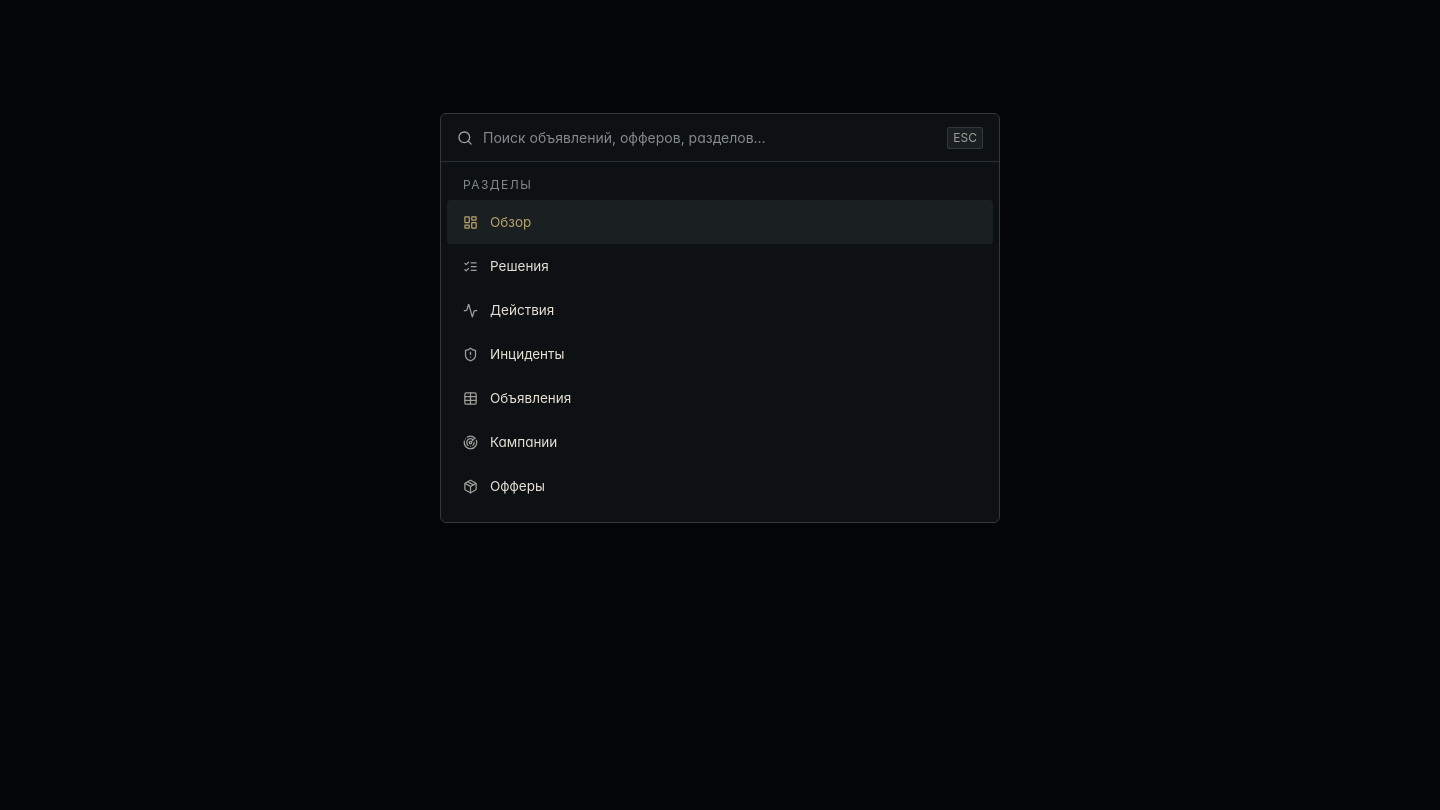
Test: CommandPalette › фильтрует разделы по запросу
Type "настр" into the field labelled "Поиск" at {"x": 710, "y": 138}, box [483,127,937,148]
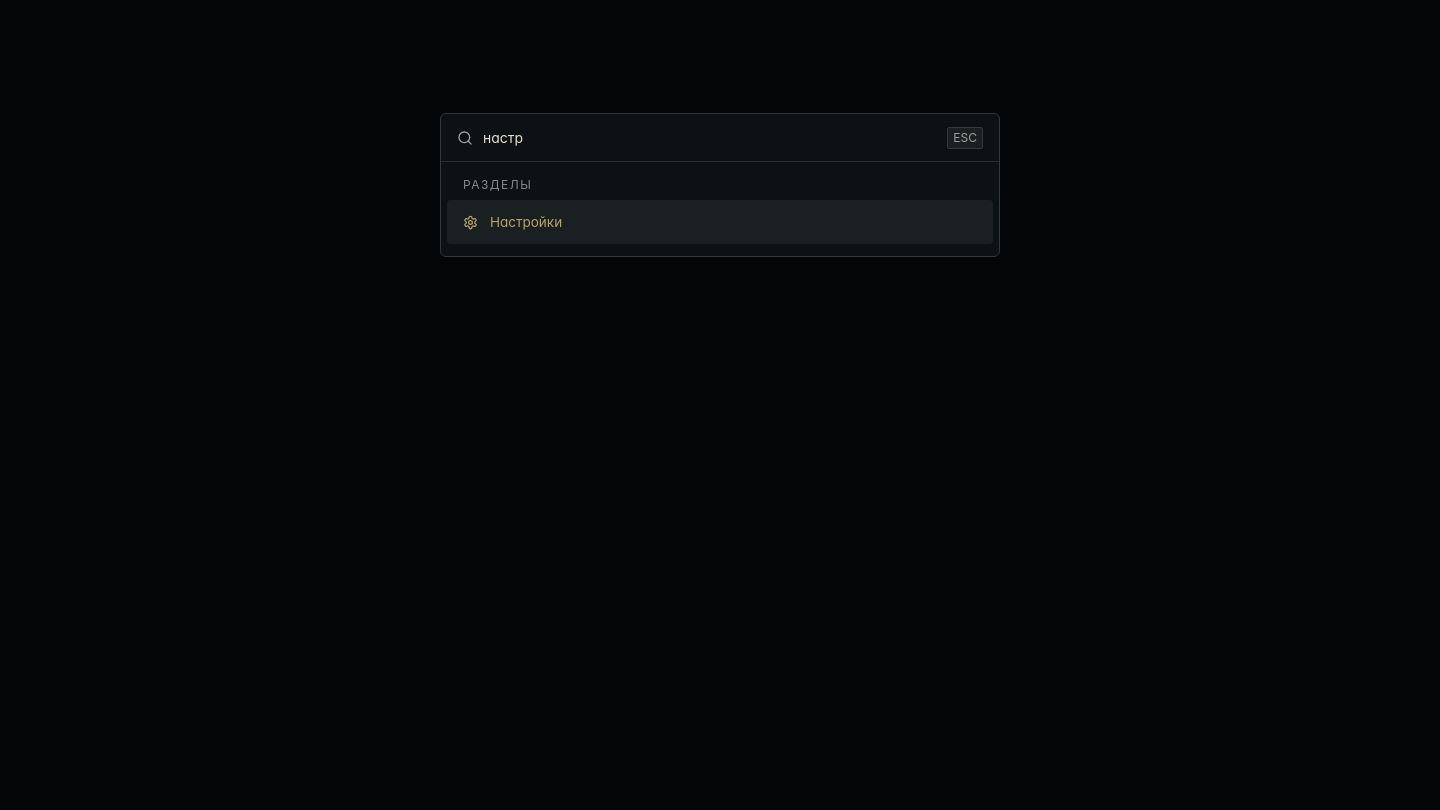
Expected: the text "Настройки" is shown, [490,214,562,230]
Expected: the button "Обзор" is gone
